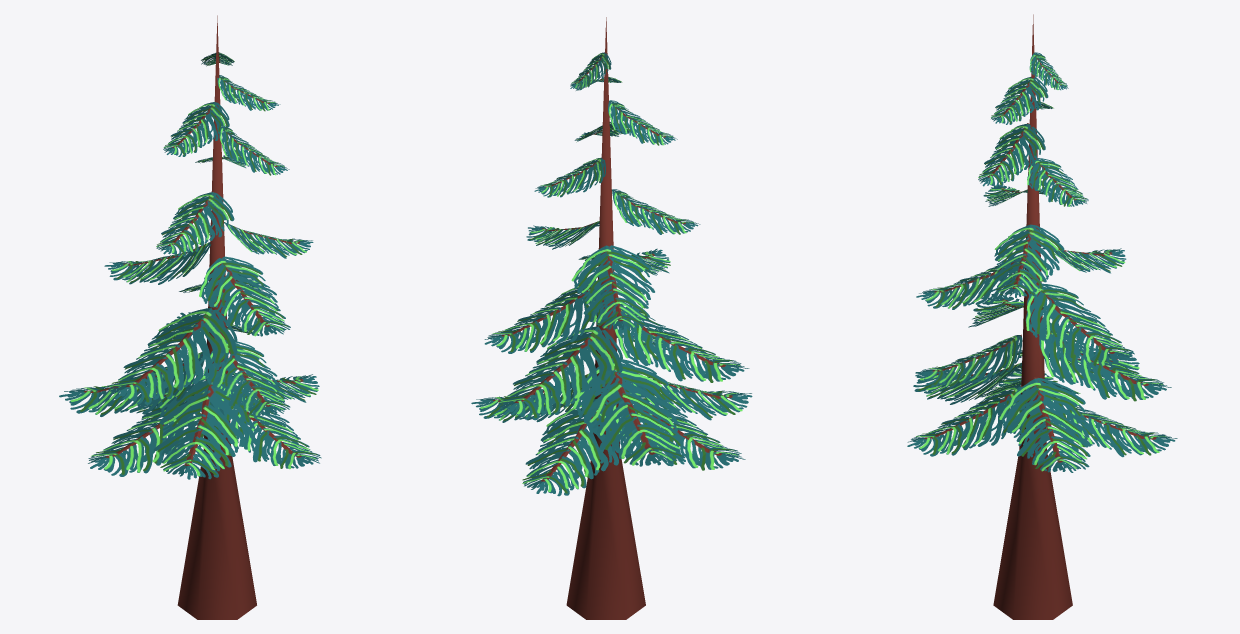
The model's file is Pine1.fbx.
3 views of the same model, side by side, from view 1: azimuth 30°, elevation 25°; view 2: azimuth 150°, elevation 25°; view 3: azimuth 270°, elevation 25° (orthographic).
Visible parts, largest first — view 1: Pine1_LOD0; view 2: Pine1_LOD0; view 3: Pine1_LOD0.
Boxes of the visible parts, bbox=[...] form: Pine1_LOD0: bbox=[59, 15, 321, 619]; Pine1_LOD0: bbox=[471, 17, 752, 619]; Pine1_LOD0: bbox=[907, 14, 1177, 619].
Size of what is drawn, in the model's own units: 3.6 by 6.12 by 3.64.
